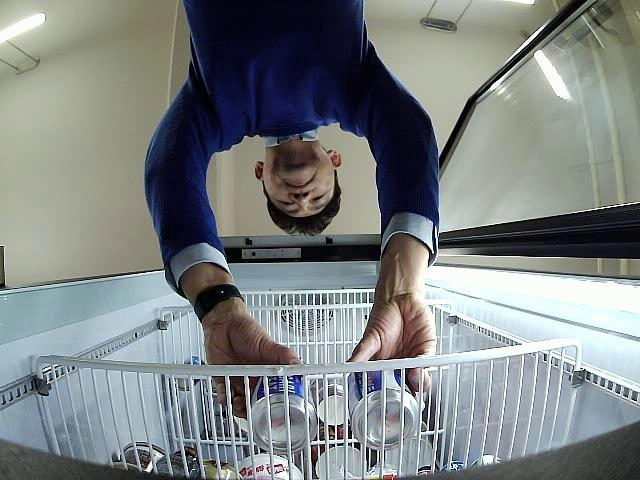13_pocariSweat: (348, 370, 419, 450), (251, 375, 317, 455)
